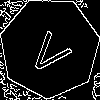V: (25, 22, 79, 80)
